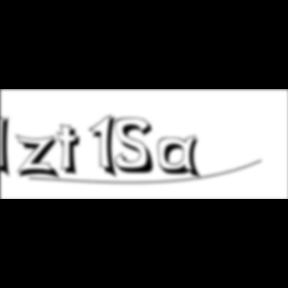1: (88, 114, 124, 182)
I: (1, 110, 18, 182)
S: (114, 117, 160, 176)
a: (158, 135, 206, 182)
t: (57, 124, 88, 179)
z: (16, 134, 64, 182)
